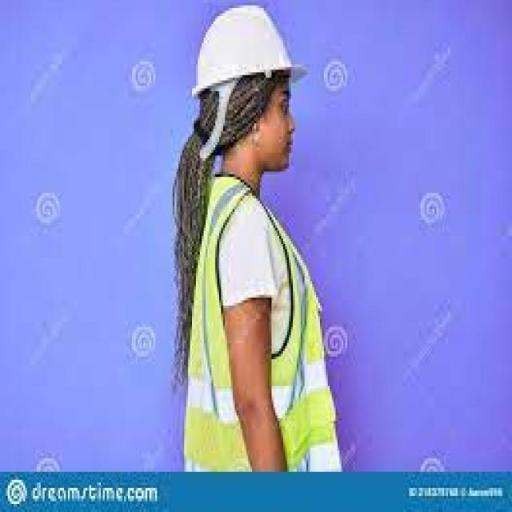helmet: (188, 0, 309, 105)
vest: (174, 177, 342, 469)
